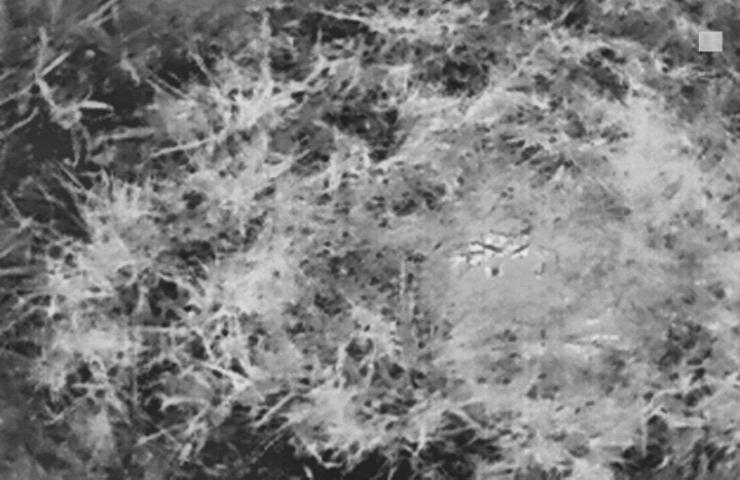landmines: (436, 221, 575, 321)
